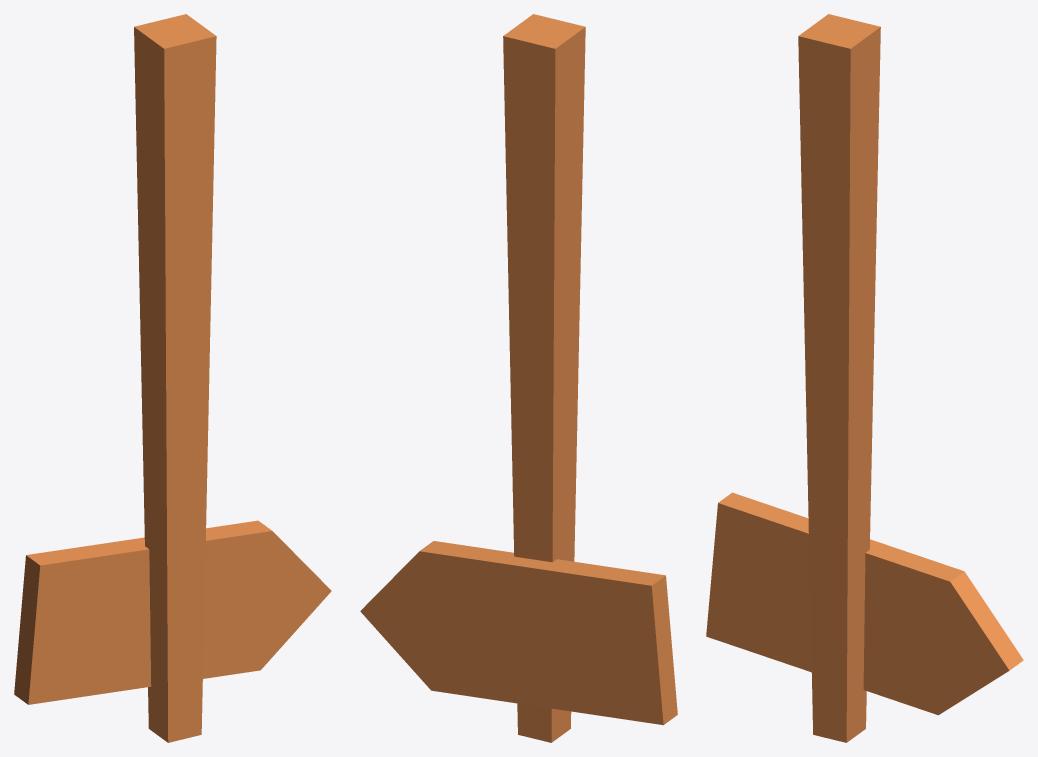
Rendered from sign01.fbx.
3 renders of one model, left to right at view 1: azimuth 30°, elevation 25°; view 2: azimuth 150°, elevation 25°; view 3: azimuth 330°, elevation 25°, orthographic.
Parts seen in each view (by area): view 1: sign; view 2: sign; view 3: sign.
Boxes of the visible parts, x1=… form: sign: x1=14, y1=14, x2=331, y2=742; sign: x1=360, y1=14, x2=677, y2=742; sign: x1=706, y1=14, x2=1023, y2=742.
Bounding box in the file's own units: 8.21 × 18.11 × 1.69.
